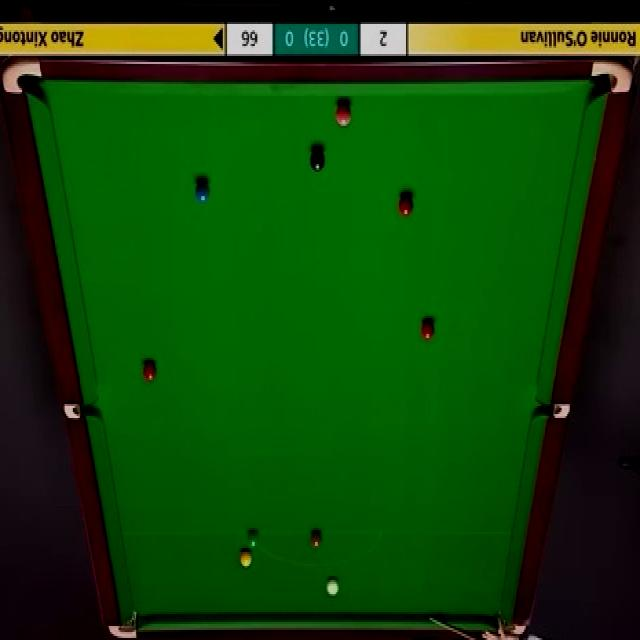pocket: (0, 56, 43, 98), (591, 60, 633, 95), (110, 608, 141, 640), (64, 400, 101, 422), (499, 606, 528, 631), (535, 405, 573, 420)
